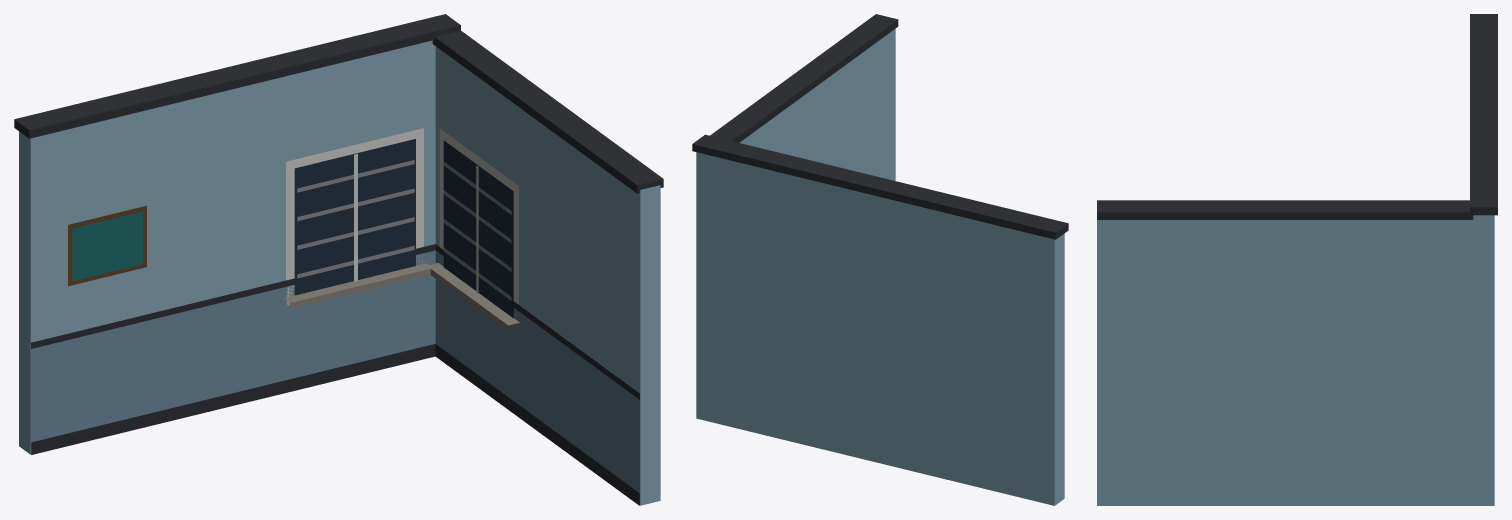
The model's file is building_room_compound.glb.
3 renders of one model, left to right at view 1: azimuth 30°, elevation 25°; view 2: azimuth 150°, elevation 25°; view 3: azimuth 270°, elevation 25°, orthographic. The views are drawn at different scales.
Visible parts, largest first — view 1: body; view 2: body; view 3: body.
Boxes of the visible parts, x1,y1,x2,y2 form: body: (14, 14, 663, 505); body: (692, 14, 1068, 505); body: (1097, 14, 1497, 505).
Bounding box in the file's own units: 4.26 × 3.08 × 3.73.
